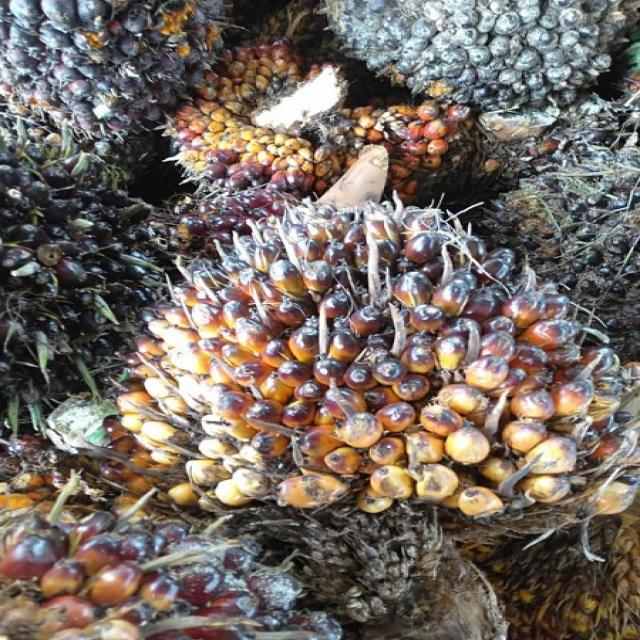fraksi 1: (130, 210, 629, 531)
